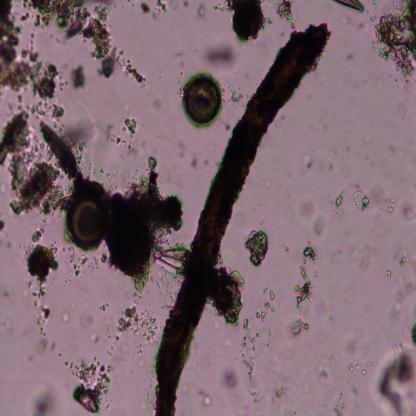Background material: (103, 154, 187, 289), (23, 0, 146, 85), (0, 1, 67, 119), (0, 98, 65, 211), (316, 327, 381, 412), (240, 287, 278, 400), (372, 320, 416, 414), (20, 226, 59, 331), (34, 117, 90, 186), (372, 0, 416, 81), (286, 236, 320, 339), (58, 349, 112, 413), (207, 268, 248, 330), (386, 242, 416, 323), (105, 306, 158, 347), (224, 1, 269, 41), (352, 182, 400, 217), (239, 224, 273, 266), (173, 136, 210, 174), (103, 113, 140, 150), (195, 45, 240, 74), (351, 232, 380, 270), (29, 378, 58, 415), (301, 198, 322, 238), (65, 251, 92, 279), (82, 311, 104, 344), (140, 0, 169, 23), (275, 0, 297, 26), (331, 186, 348, 219), (69, 63, 87, 93), (324, 149, 344, 173), (220, 368, 238, 390), (61, 300, 77, 324), (300, 153, 313, 175), (38, 339, 53, 358), (0, 316, 14, 335), (195, 3, 208, 22), (149, 93, 161, 113), (201, 393, 213, 407), (0, 216, 7, 233)
Diatom: (66, 190, 110, 252), (181, 74, 223, 128), (151, 244, 189, 270), (334, 0, 364, 12)
